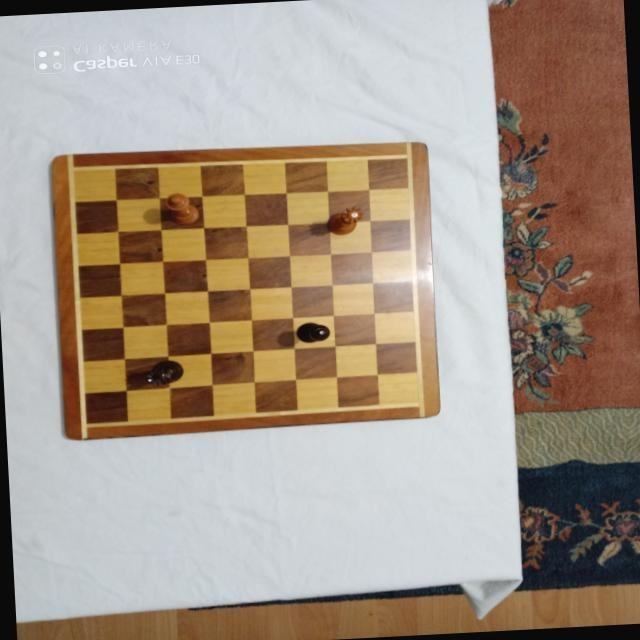black-king: (294, 321, 330, 343)
black-queen: (143, 360, 184, 388)
white-king: (164, 191, 200, 226)
white-queen: (327, 205, 366, 236)
